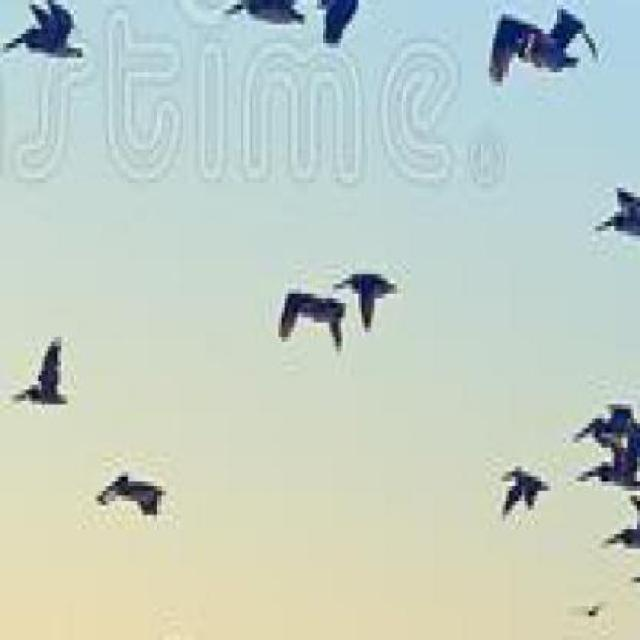bird: (2, 321, 88, 437), (480, 12, 613, 80), (267, 278, 347, 354), (325, 263, 411, 333), (0, 0, 86, 63), (93, 463, 169, 523), (489, 463, 557, 530), (563, 400, 640, 450), (576, 442, 640, 499), (211, 1, 309, 38), (589, 181, 640, 245), (313, 0, 368, 53), (597, 494, 640, 558), (564, 590, 612, 630)
